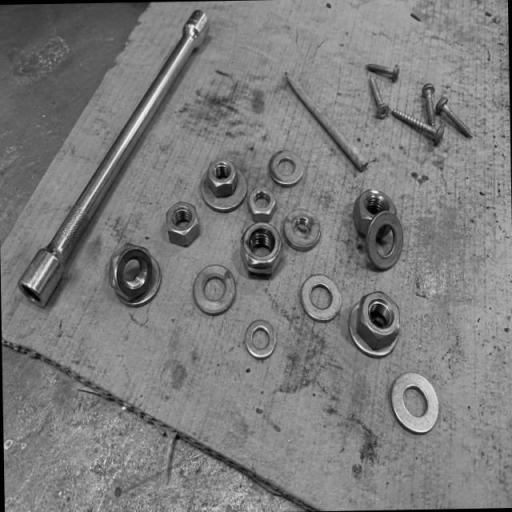Bolt: (281, 71, 368, 174), (386, 105, 441, 147), (436, 91, 472, 140), (367, 76, 392, 121), (421, 81, 442, 132), (365, 63, 401, 81)
Nut: (109, 246, 162, 305), (354, 290, 399, 348), (238, 222, 285, 277), (350, 186, 394, 237), (164, 201, 202, 248), (282, 211, 323, 251), (205, 158, 240, 199), (246, 189, 279, 225)
Washer: (387, 370, 442, 436), (346, 298, 403, 359), (363, 211, 405, 273), (190, 264, 237, 316), (298, 273, 344, 325), (197, 171, 249, 214), (242, 318, 279, 360), (267, 149, 305, 188)
